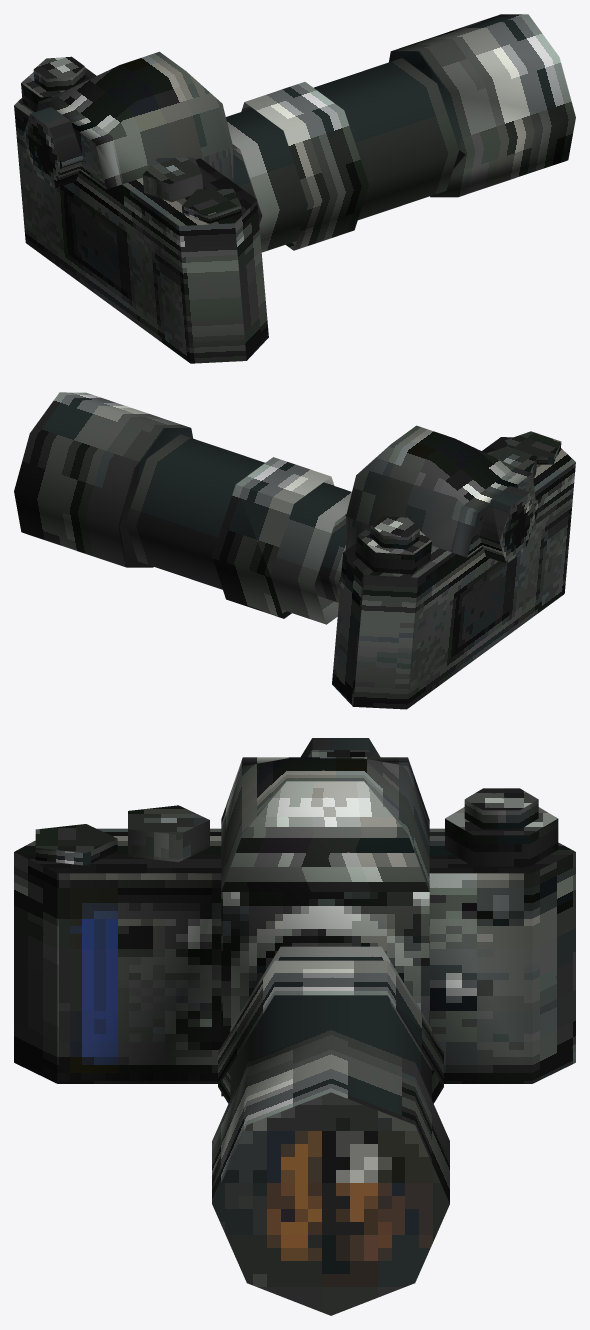
File: Camera.fbx
The picture shows the model from 3 angles, top to bottom: view 1: azimuth 30°, elevation 25°; view 2: azimuth 150°, elevation 25°; view 3: azimuth 270°, elevation 25°; orthographic projection. The views are drawn at different scales.
Visible parts, largest first — view 1: Camera; view 2: Camera; view 3: Camera.
Part boxes in pixels (box(x1,y1,x2,y2)): Camera: box(14, 14, 575, 363); Camera: box(14, 392, 575, 709); Camera: box(14, 738, 575, 1315).
Bounding box in the file's own units: 27.12 × 11.24 × 18.41.
Materials: 1 (1 with a texture image).
